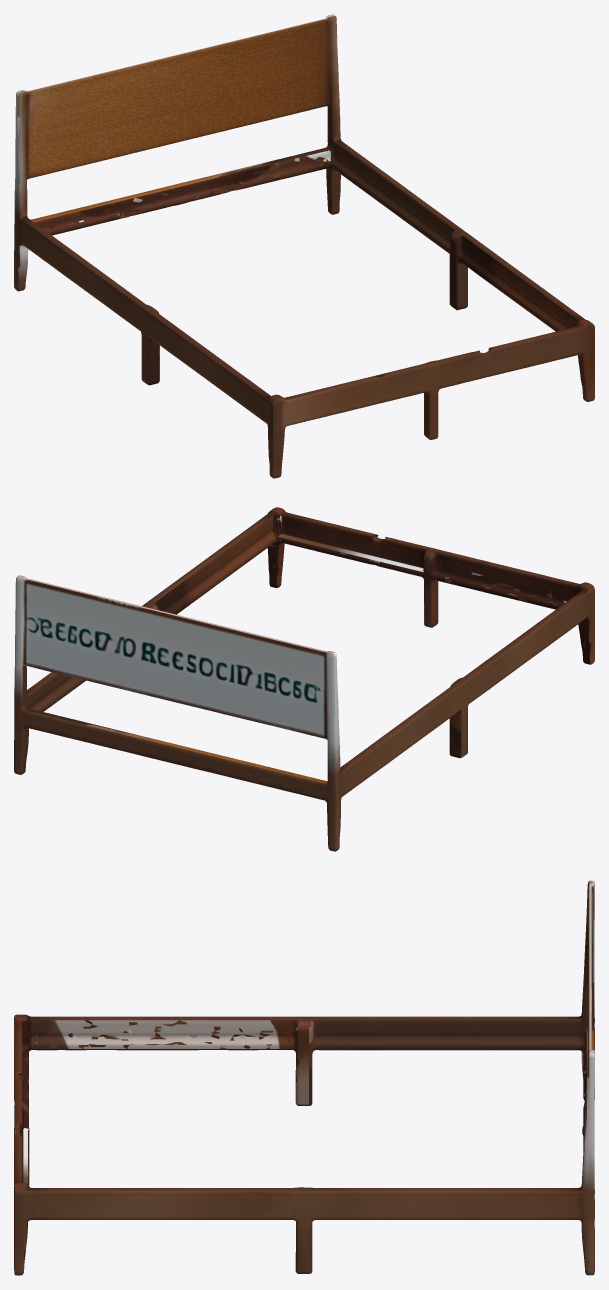
File: bed__bed#1.glb
3 views of the same model, one above another, from view 1: azimuth 30°, elevation 25°; view 2: azimuth 150°, elevation 25°; view 3: azimuth 270°, elevation 25° (orthographic). The views are drawn at different scales.
Parts seen in each view (by area): view 1: tmpw_kt7mcj.ply; view 2: tmpw_kt7mcj.ply; view 3: tmpw_kt7mcj.ply.
Part boxes in pixels (x1,y1,x2,y2): tmpw_kt7mcj.ply: [14, 14, 594, 478]; tmpw_kt7mcj.ply: [14, 507, 594, 851]; tmpw_kt7mcj.ply: [14, 880, 594, 1275].
Bounding box in the file's own units: 1.43 × 0.8368 × 1.99.
1 material, 1 textured.
